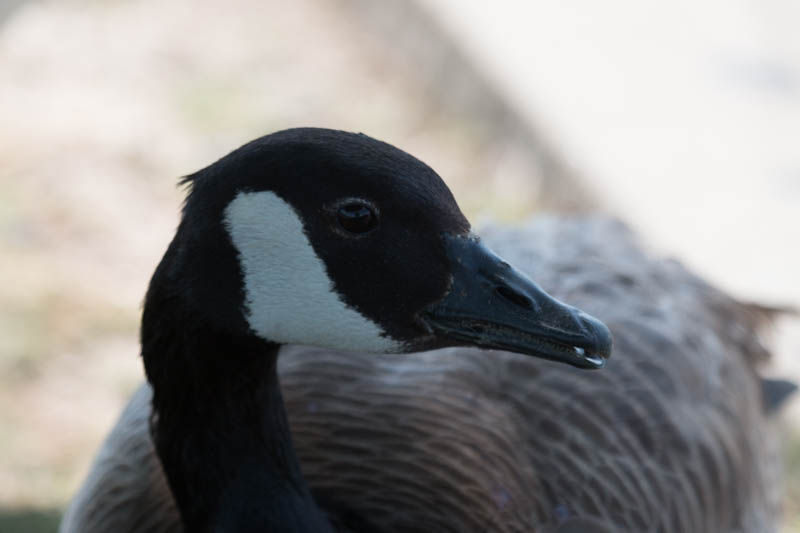goose-head: (140, 128, 612, 371)
